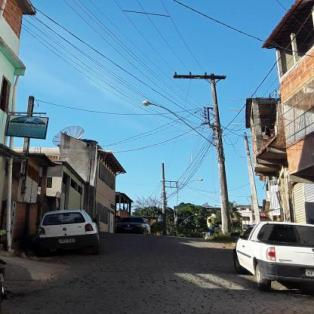Poste: (208, 72, 236, 236)
